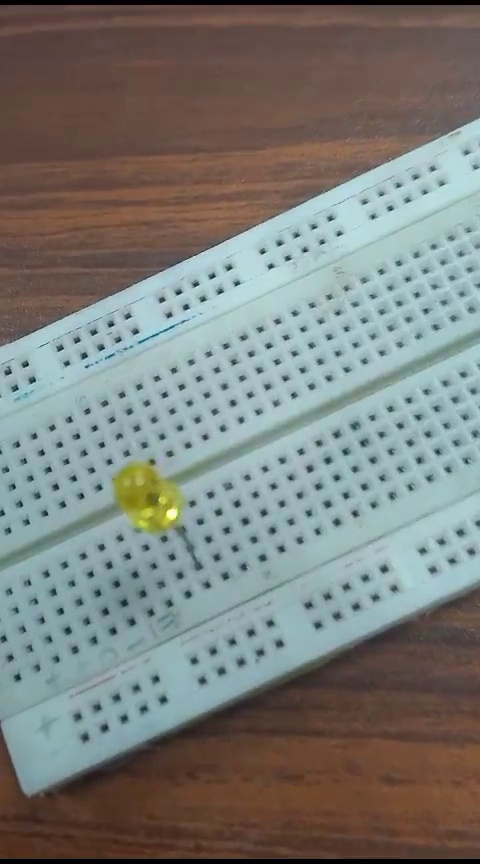LED: (102, 457, 206, 575)
